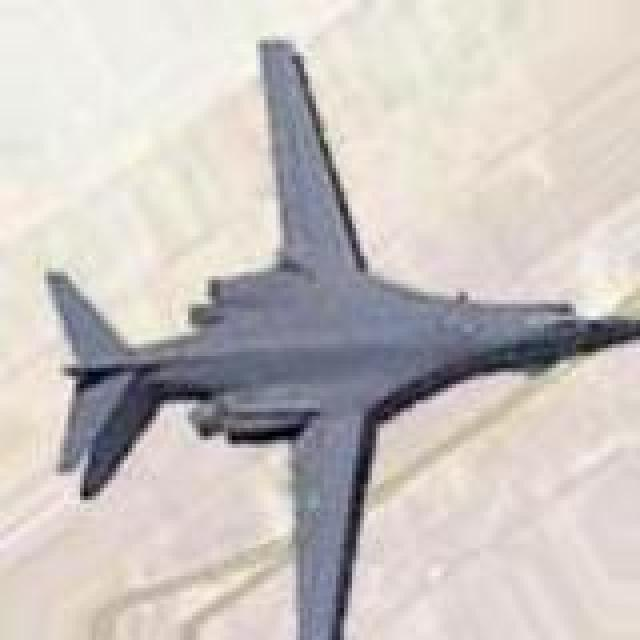B-1_TopDown: (36, 32, 636, 636)
